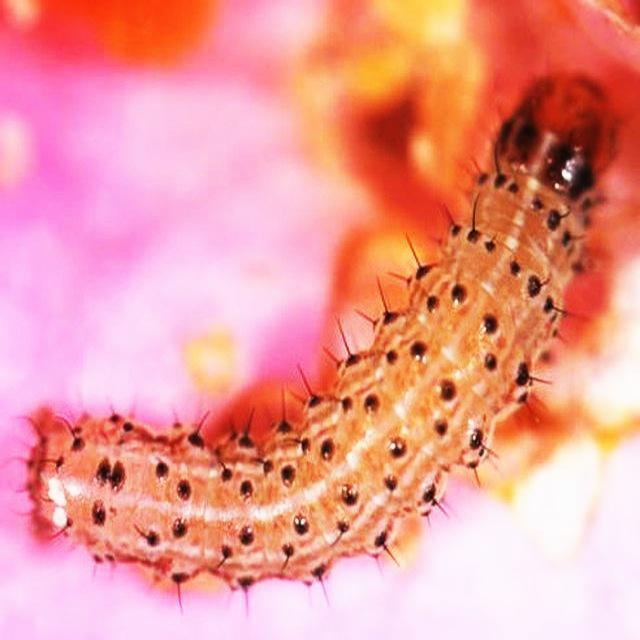gusano_cogollero: (4, 65, 621, 609)
